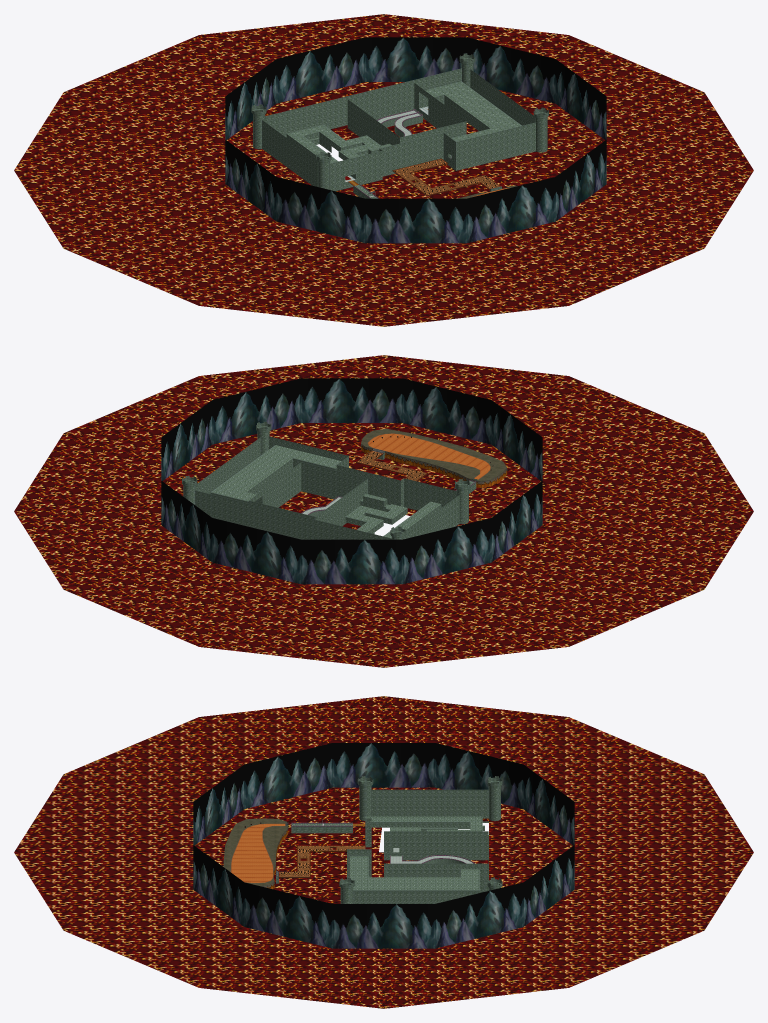
3 views of the same model, one above another, from view 1: azimuth 30°, elevation 25°; view 2: azimuth 150°, elevation 25°; view 3: azimuth 270°, elevation 25° (orthographic).
Visible parts, largest first — view 1: lava1, enkei_rotate, kabe04, kp_ami2, k_carpet002; view 2: lava1, enkei_rotate, kabe04, k_tuti, kp_OutGrass1, kp_ami2; view 3: lava1, enkei_rotate, kabe04, k_tuti, kp_OutGrass1, kp_ami2, k_carpet002.
Part boxes in pixels (x1=…): lava1: x1=14, y1=14, x2=753, y2=326; enkei_rotate: x1=225, y1=37, x2=606, y2=243; kabe04: x1=251, y1=53, x2=548, y2=198; kp_ami2: x1=393, y1=159, x2=499, y2=195; k_carpet002: x1=345, y1=109, x2=500, y2=198; lava1: x1=14, y1=355, x2=753, y2=667; enkei_rotate: x1=161, y1=378, x2=542, y2=584; kabe04: x1=182, y1=421, x2=478, y2=539; k_tuti: x1=368, y1=433, x2=490, y2=479; kp_OutGrass1: x1=361, y1=428, x2=506, y2=481; kp_ami2: x1=357, y1=451, x2=426, y2=480; lava1: x1=14, y1=696, x2=753, y2=1008; enkei_rotate: x1=193, y1=743, x2=574, y2=948; kabe04: x1=276, y1=776, x2=502, y2=903; k_tuti: x1=231, y1=824, x2=285, y2=882; kp_OutGrass1: x1=223, y1=818, x2=287, y2=886; kp_ami2: x1=279, y1=845, x2=365, y2=876; k_carpet002: x1=278, y1=822, x2=474, y2=877.
Size of the model in its own units: 300000 by 23875 by 300000.
Materials: 19 (19 with a texture image).
